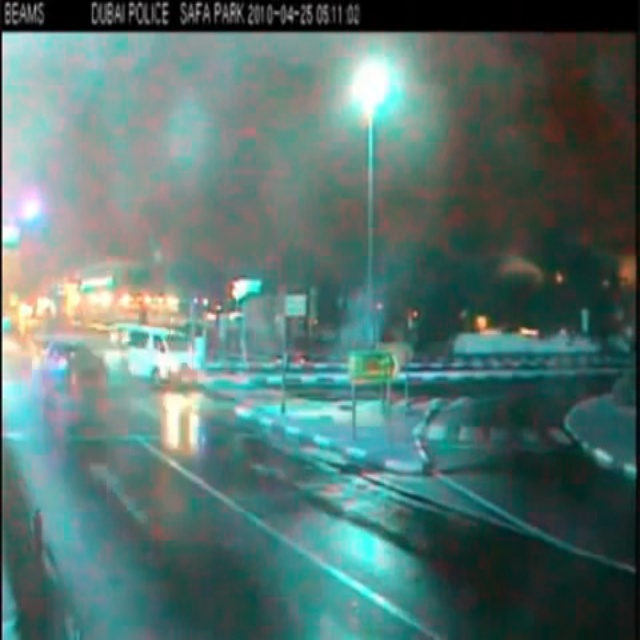acc: (30, 318, 198, 405)
